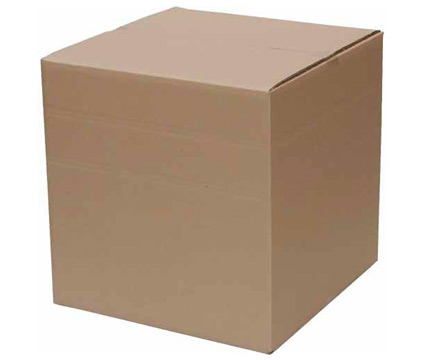Rec_Paper: (29, 1, 404, 349)
